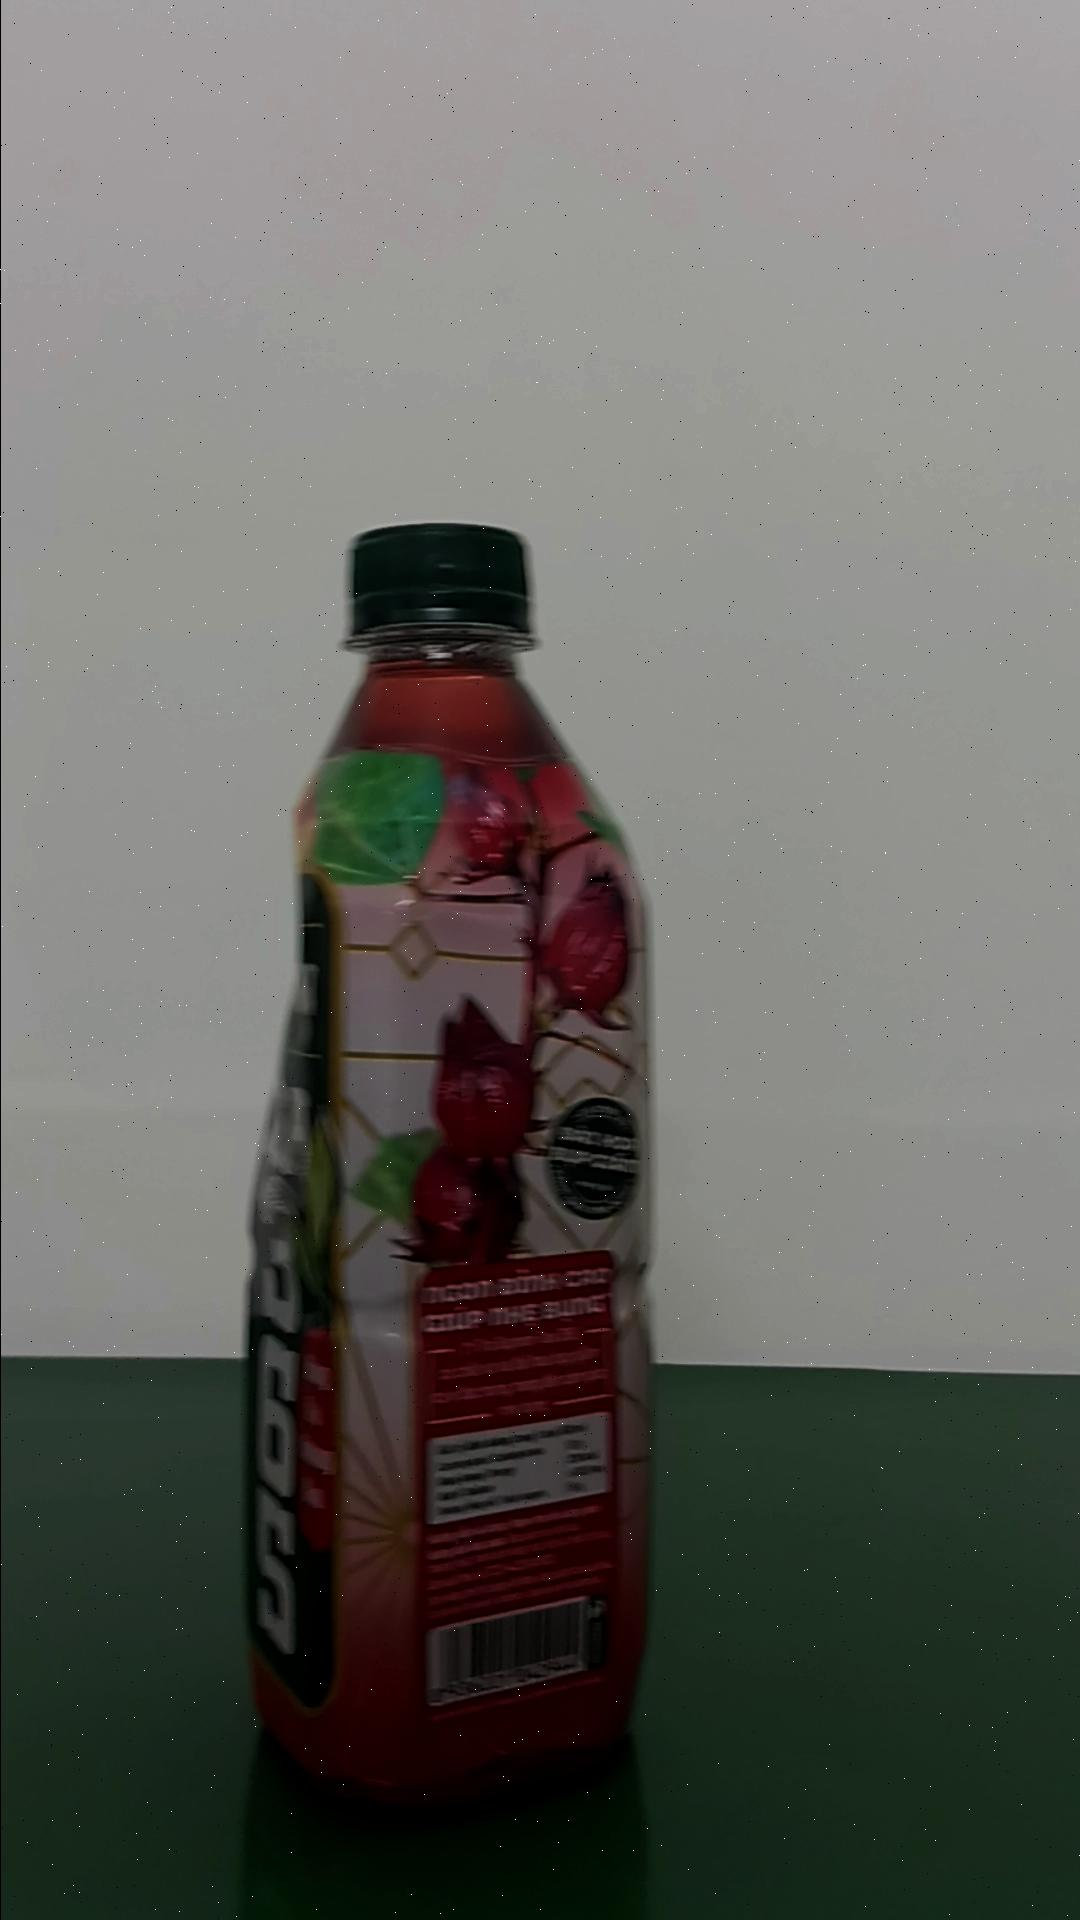loi meo sp: (240, 520, 659, 1813)
